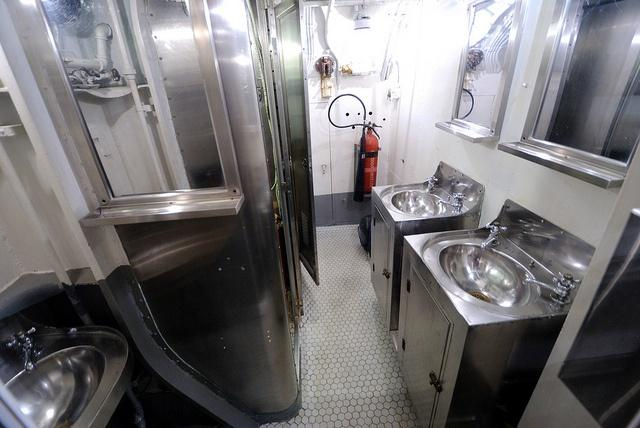APAR: (357, 122, 381, 199)
